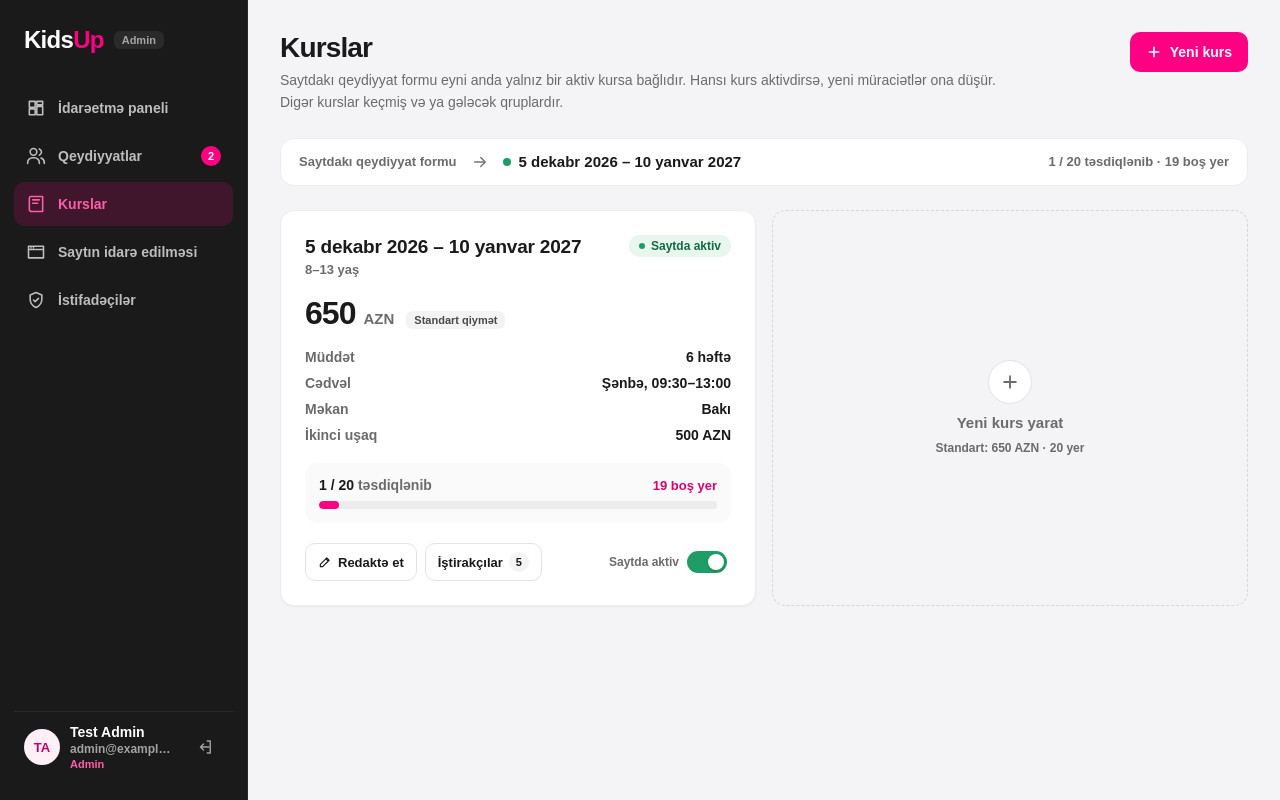
a new course › asks for what is missing and says where
Expected: the navigation bar named "Admin menyu" is shown, x1=14 y1=86 x2=233 y2=322
Expected: the heading "Kurslar" is shown, x1=280 y1=32 x2=372 y2=63
Click the button "Yeni kurs": (1189, 52) x1=1130 y1=32 x2=1248 y2=72
(page scrolled)
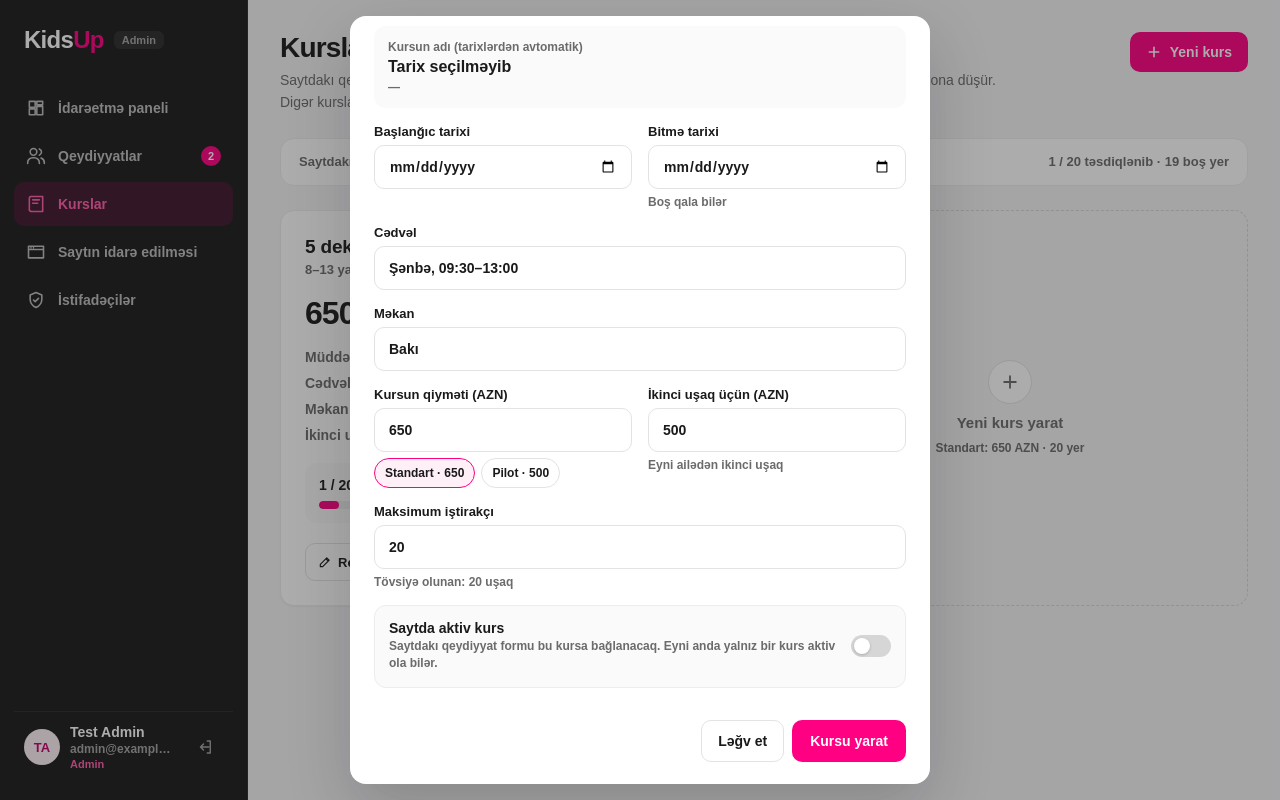
Click the button "Kursu yarat": (849, 741) x1=792 y1=720 x2=906 y2=762
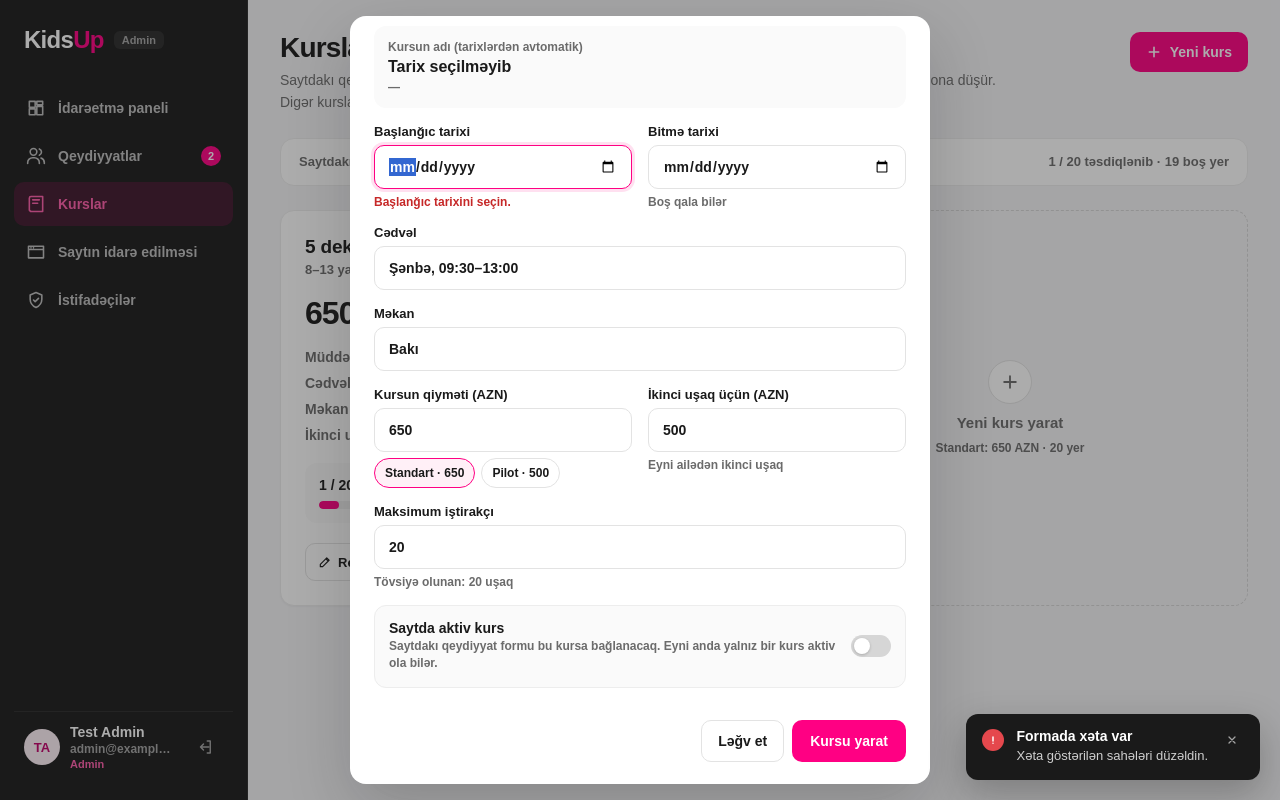
Expected: the text "Başlanğıc tarixini seçin." is shown, x1=374 y1=195 x2=511 y2=209
Expected: the text "Formada xəta var" is shown, x1=1016 y1=728 x2=1132 y2=744
In the date field labelled "Başlanğıc tarixi": (503, 167) x1=374 y1=145 x2=632 y2=189, type "2027-03-06"
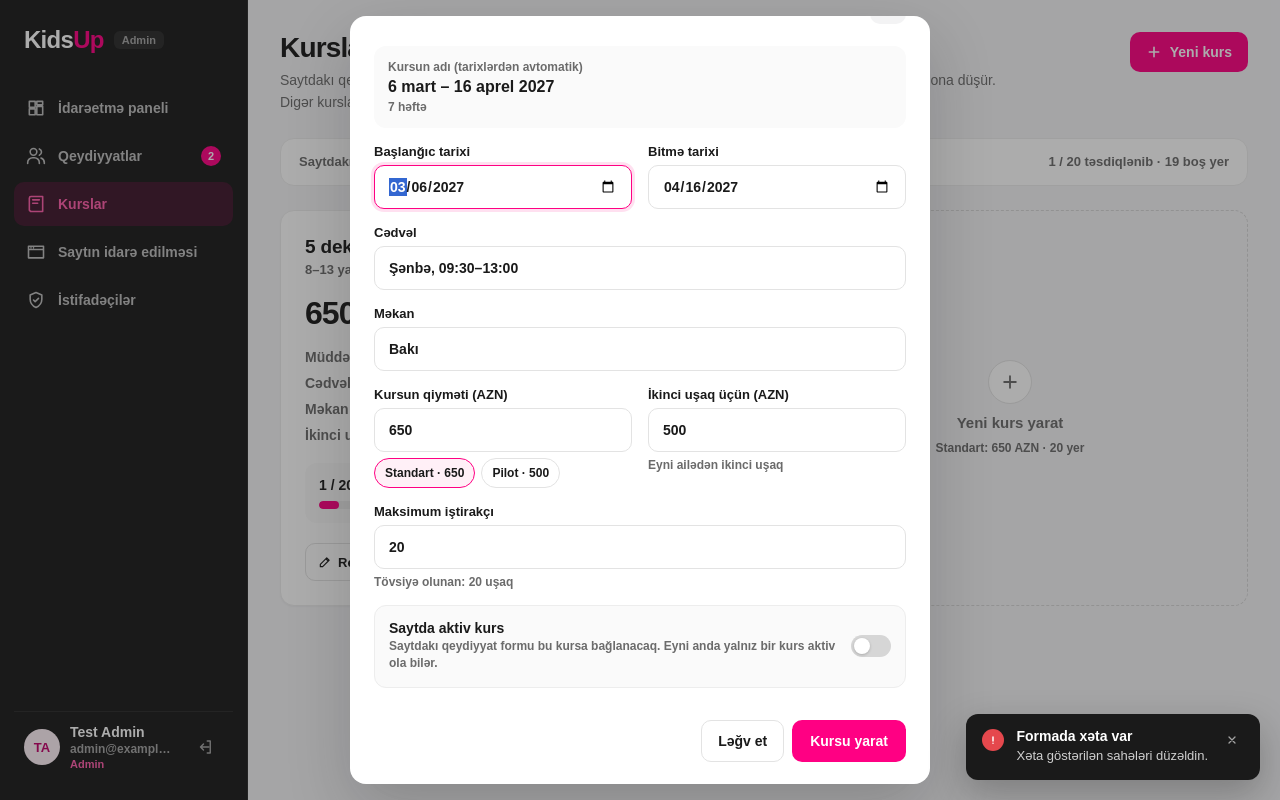
Expected: the text "Başlanğıc tarixini seçin." is gone
